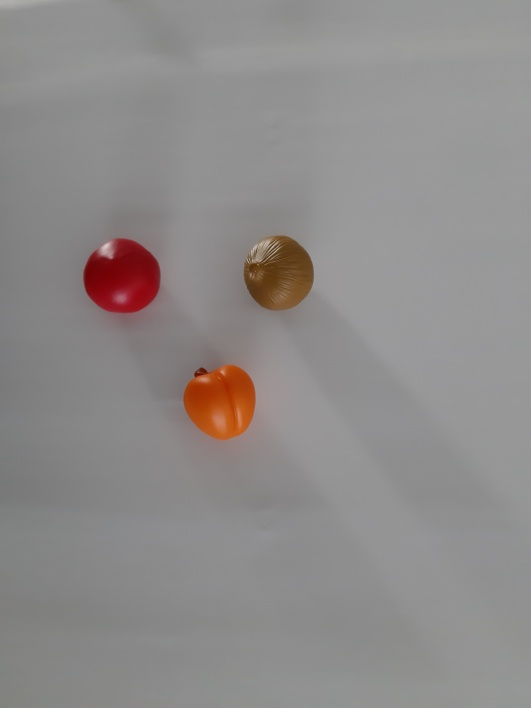apricot: (167, 350, 286, 453)
onion: (219, 224, 344, 330)
tomato: (67, 222, 178, 332)
